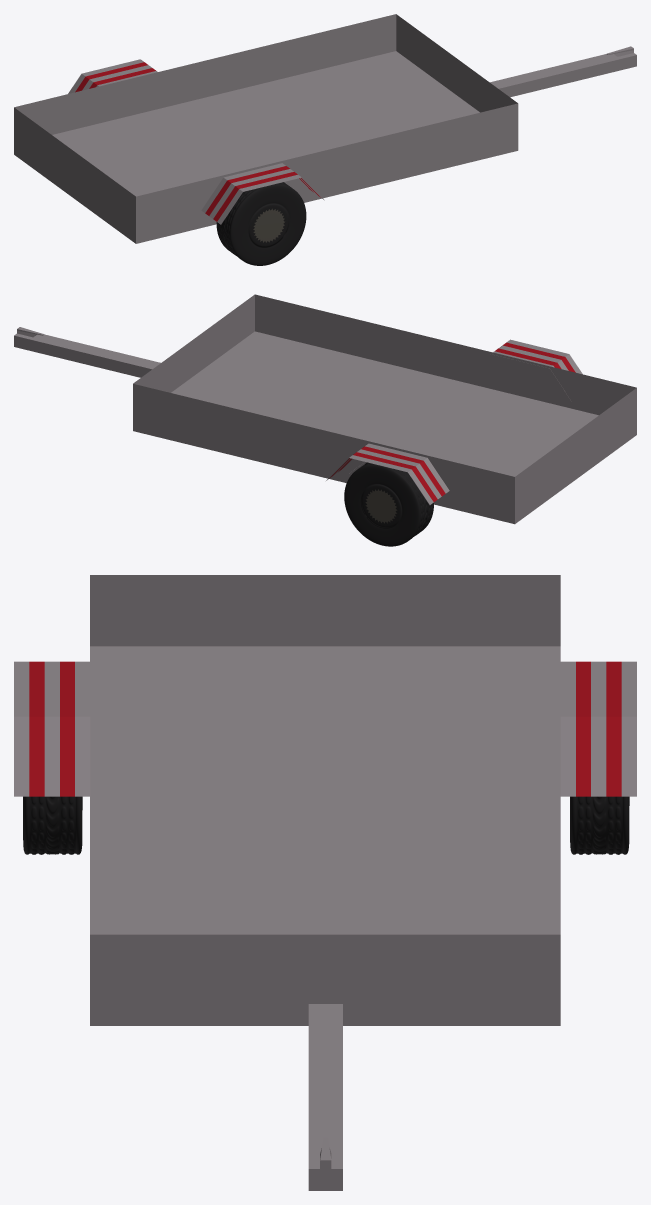
Rendered from piekabe.fbx.
3 views of the same model, one above another, from view 1: azimuth 30°, elevation 25°; view 2: azimuth 150°, elevation 25°; view 3: azimuth 270°, elevation 25° (orthographic). The views are drawn at different scales.
Visible parts, largest first — view 1: Piekabe, RiepaKreisa.001; view 2: Piekabe, RiepaKreisa; view 3: Piekabe, RiepaKreisa.001, RiepaKreisa.
Boxes of the visible parts, bbox=[...] form: Piekabe: bbox=[14, 14, 636, 243]; RiepaKreisa.001: bbox=[216, 182, 306, 265]; Piekabe: bbox=[14, 294, 636, 524]; RiepaKreisa: bbox=[344, 462, 433, 546]; Piekabe: bbox=[14, 575, 636, 1190]; RiepaKreisa.001: bbox=[23, 796, 82, 854]; RiepaKreisa: bbox=[570, 796, 629, 854].
Bounding box in the file's own units: 716 × 104 × 360.
